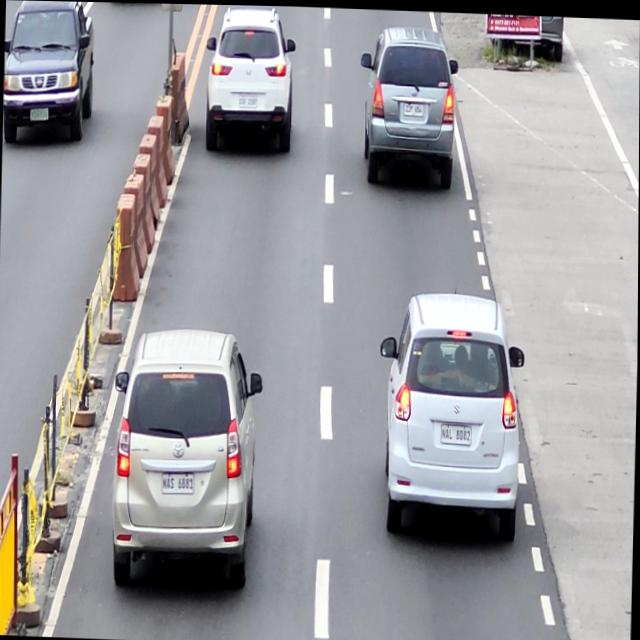Car: (107, 322, 264, 594), (377, 288, 526, 541), (356, 23, 459, 191), (203, 4, 295, 156)
License-Plate: (161, 470, 196, 493), (438, 421, 473, 443), (404, 100, 425, 116), (236, 95, 258, 107)
